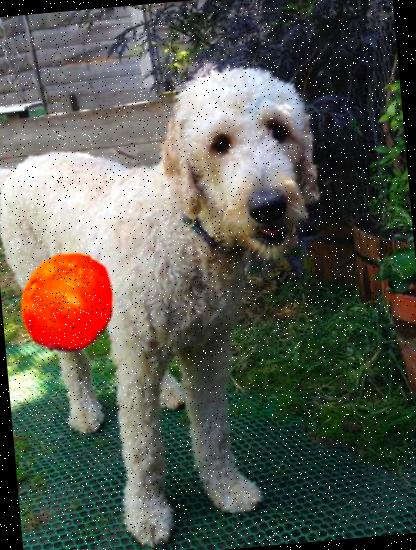Clementine: (10, 246, 126, 361)
